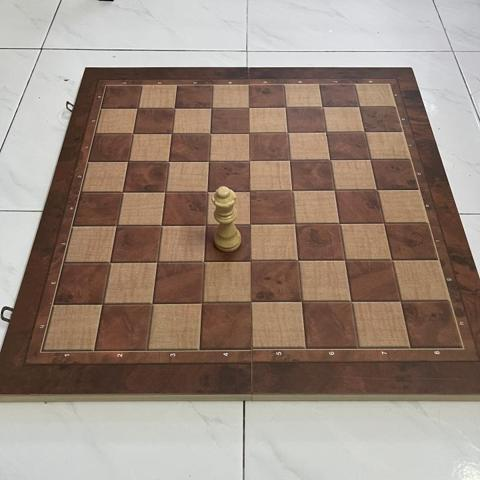xcorner: (350, 98, 368, 116), (240, 124, 258, 142), (124, 124, 142, 142), (321, 151, 339, 169), (281, 151, 299, 169), (368, 181, 386, 199), (114, 182, 132, 200), (197, 215, 215, 233), (383, 251, 401, 269), (392, 292, 410, 310), (243, 293, 261, 311), (313, 99, 331, 116), (166, 99, 183, 117), (129, 99, 146, 117), (317, 124, 335, 141), (202, 124, 219, 142), (163, 124, 180, 142), (362, 151, 379, 169), (200, 152, 218, 169), (119, 152, 137, 169), (326, 181, 343, 199), (241, 182, 259, 199), (157, 182, 174, 200), (375, 215, 393, 232), (286, 215, 304, 232), (242, 215, 259, 233), (153, 215, 170, 233), (108, 216, 126, 233), (336, 252, 354, 269), (196, 252, 213, 270), (149, 252, 166, 270), (293, 293, 311, 310), (194, 293, 211, 311), (144, 294, 162, 311), (277, 99, 294, 116), (240, 99, 257, 116), (203, 99, 220, 116), (356, 124, 373, 141), (279, 124, 296, 141), (241, 152, 258, 169), (160, 152, 177, 169), (284, 182, 301, 199), (199, 182, 216, 199), (331, 215, 348, 232), (290, 252, 307, 269), (243, 252, 260, 269), (102, 253, 119, 270), (343, 293, 360, 310), (95, 294, 112, 311)
